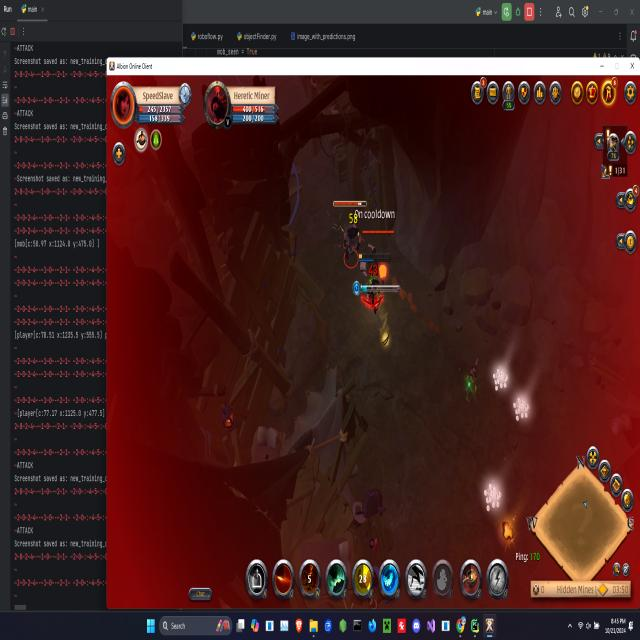ore: (354, 224, 396, 314), (331, 198, 366, 270)
red: (357, 248, 392, 320)
stone: (481, 474, 504, 516), (510, 387, 532, 428), (490, 361, 510, 395)
